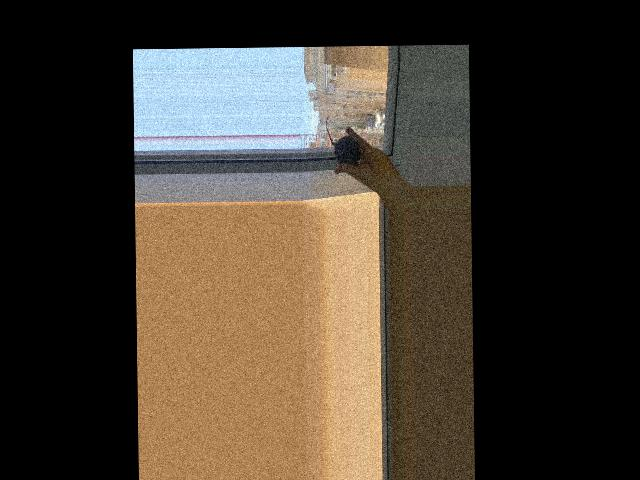beet: (325, 113, 360, 163)
